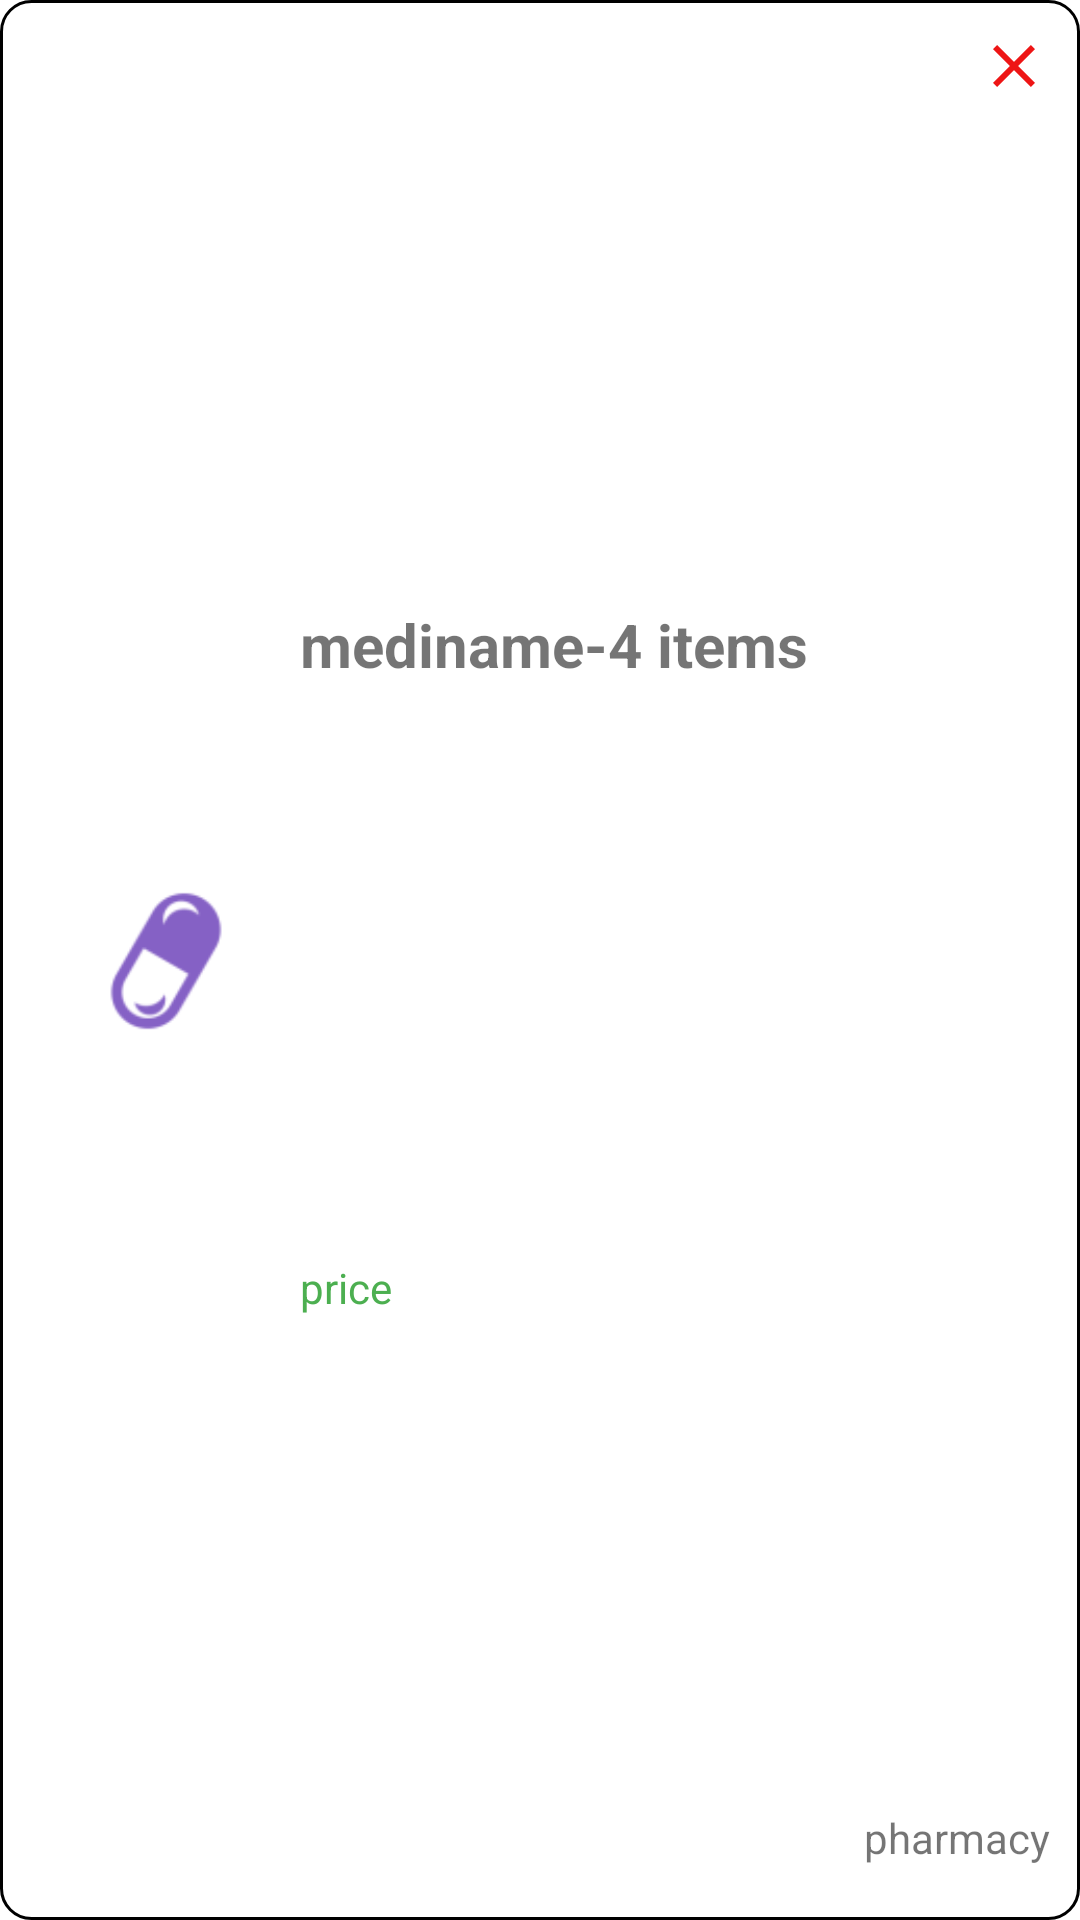

Named icons in this screenshot (1080px x 1920px) and their centers, point (x, y):
pilicon: point (166, 961)
remove: point (1014, 66)
